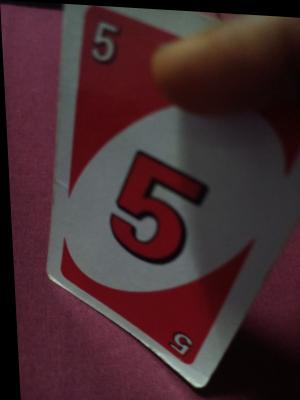num_5: (99, 139, 219, 272), (79, 15, 128, 72), (160, 325, 194, 357)
